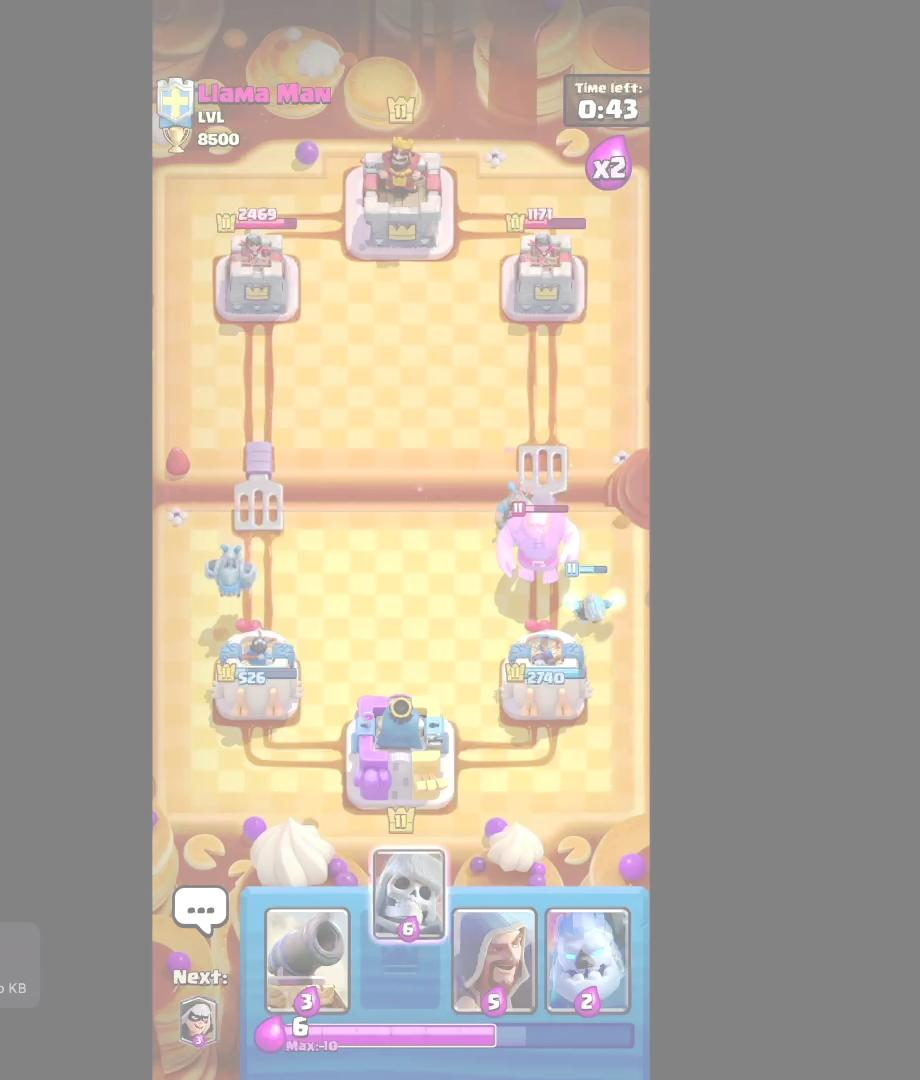Giant: (500, 499, 577, 589)
